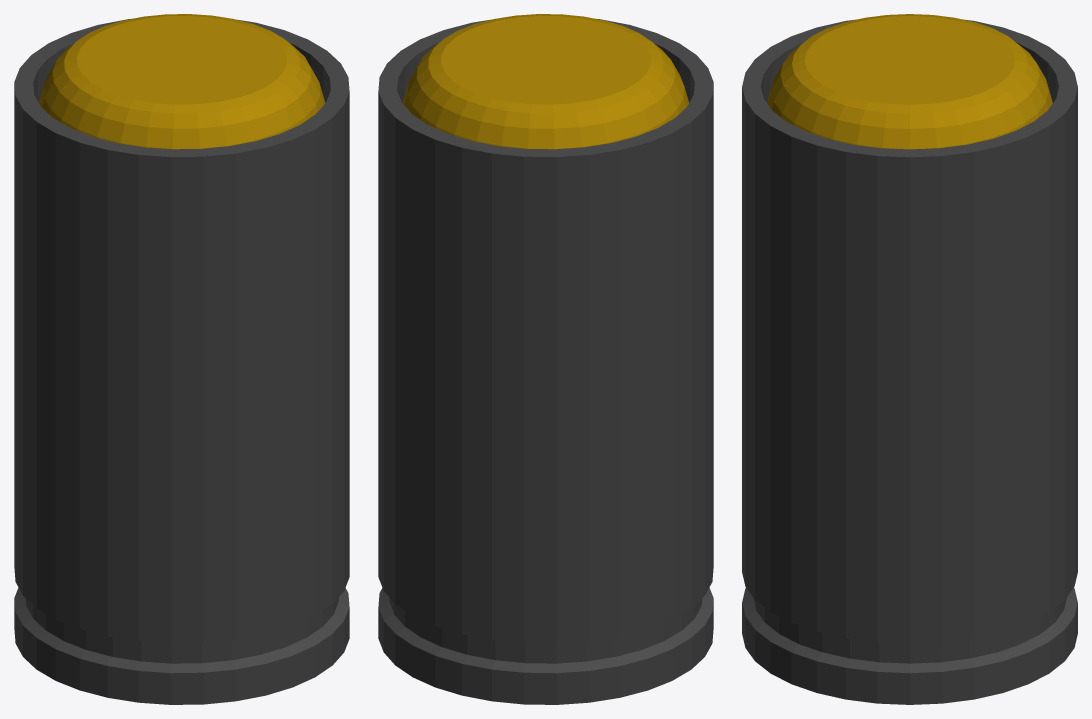
The model's file is Grenade.fbx.
3 renders of one model, left to right at view 1: azimuth 30°, elevation 25°; view 2: azimuth 150°, elevation 25°; view 3: azimuth 270°, elevation 25°, orthographic.
Visible parts, largest first — view 1: Shell, Grenade; view 2: Shell, Grenade; view 3: Shell, Grenade.
Boxes of the visible parts, x1,y1,x2,y2 form: Shell: [14, 18, 349, 704]; Grenade: [39, 14, 325, 149]; Shell: [378, 18, 713, 704]; Grenade: [402, 14, 688, 149]; Shell: [742, 19, 1077, 704]; Grenade: [767, 14, 1052, 149].
Bounding box in the file's own units: 0.2717 × 0.518 × 0.2717.
